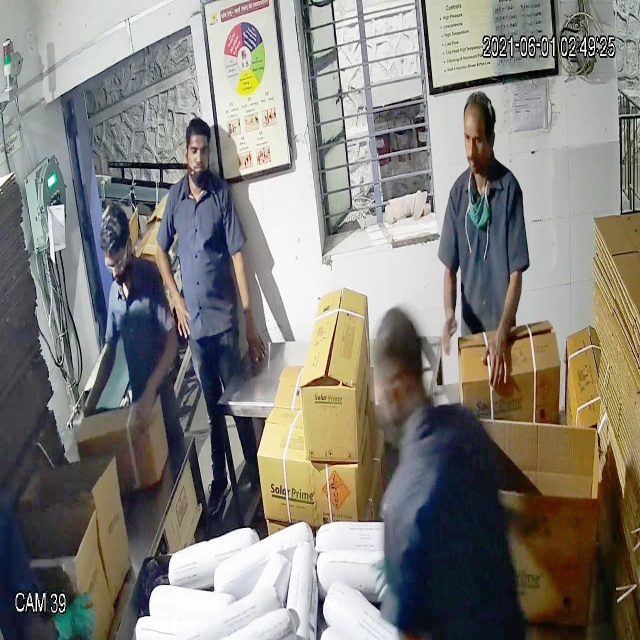Gafas: (100, 245, 133, 279)
Sin_gafas: (458, 125, 501, 156), (179, 136, 219, 167)
